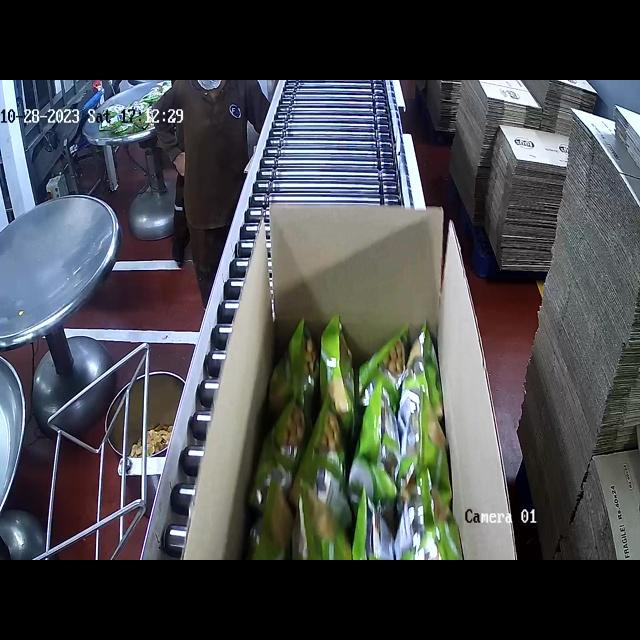yogurt: (287, 324, 444, 560)
